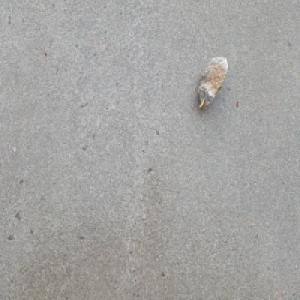Rock: (197, 56, 228, 113)
